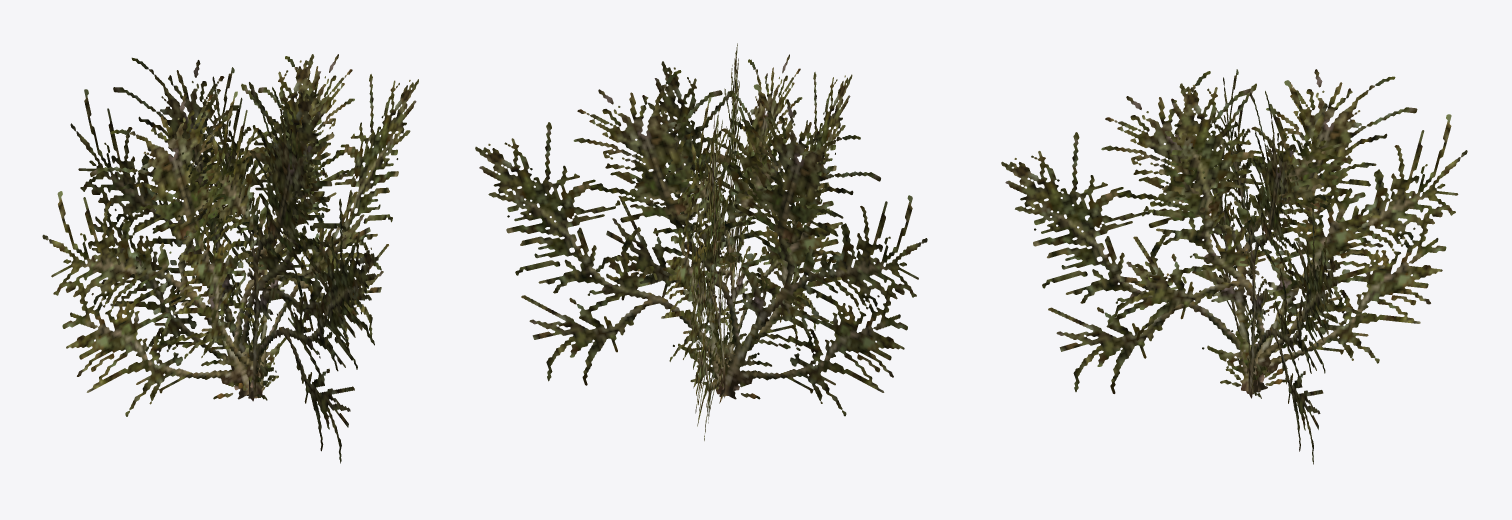
3 renders of one model, left to right at view 1: azimuth 30°, elevation 25°; view 2: azimuth 150°, elevation 25°; view 3: azimuth 270°, elevation 25°, orthographic. The views are drawn at different scales.
Visible parts, largest first — view 1: _DB01C; view 2: _DB01C; view 3: _DB01C.
Part boxes in pixels (x1,y1,x2,y2): _DB01C: (42, 54, 418, 463); _DB01C: (475, 43, 927, 440); _DB01C: (1001, 69, 1467, 464).
Bounding box in the file's own units: 5.54 × 4.68 × 5.43.
Materials: 1 (1 with a texture image).
